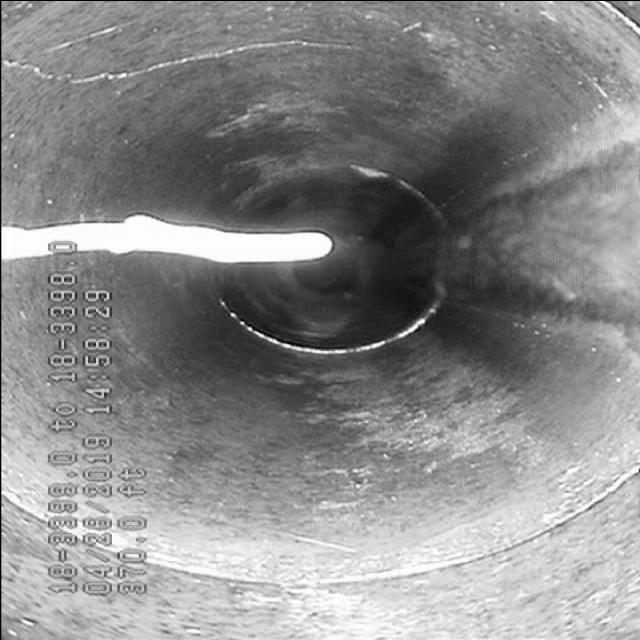Crack: (2, 10, 374, 114)
